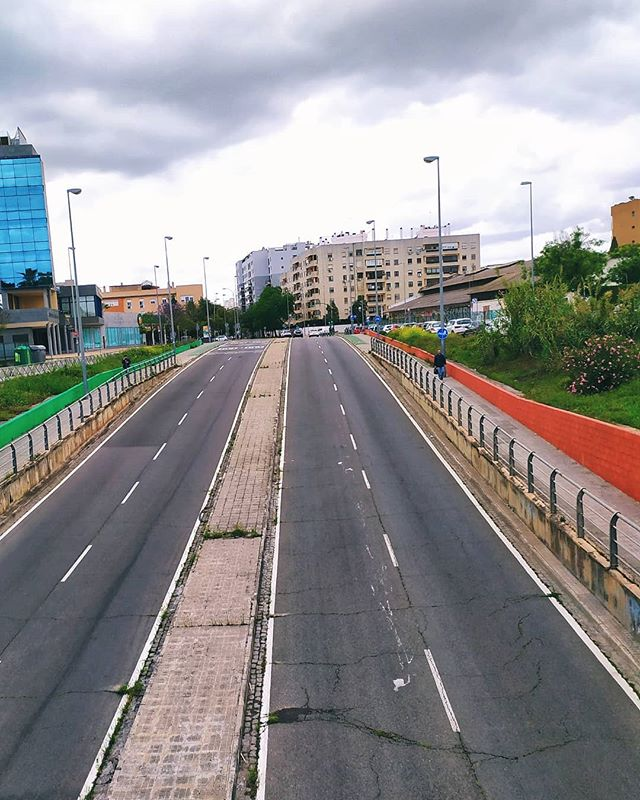building: (272, 221, 501, 333), (1, 142, 78, 358), (78, 276, 203, 354)
sky: (46, 1, 640, 244)
street: (1, 342, 629, 800)
